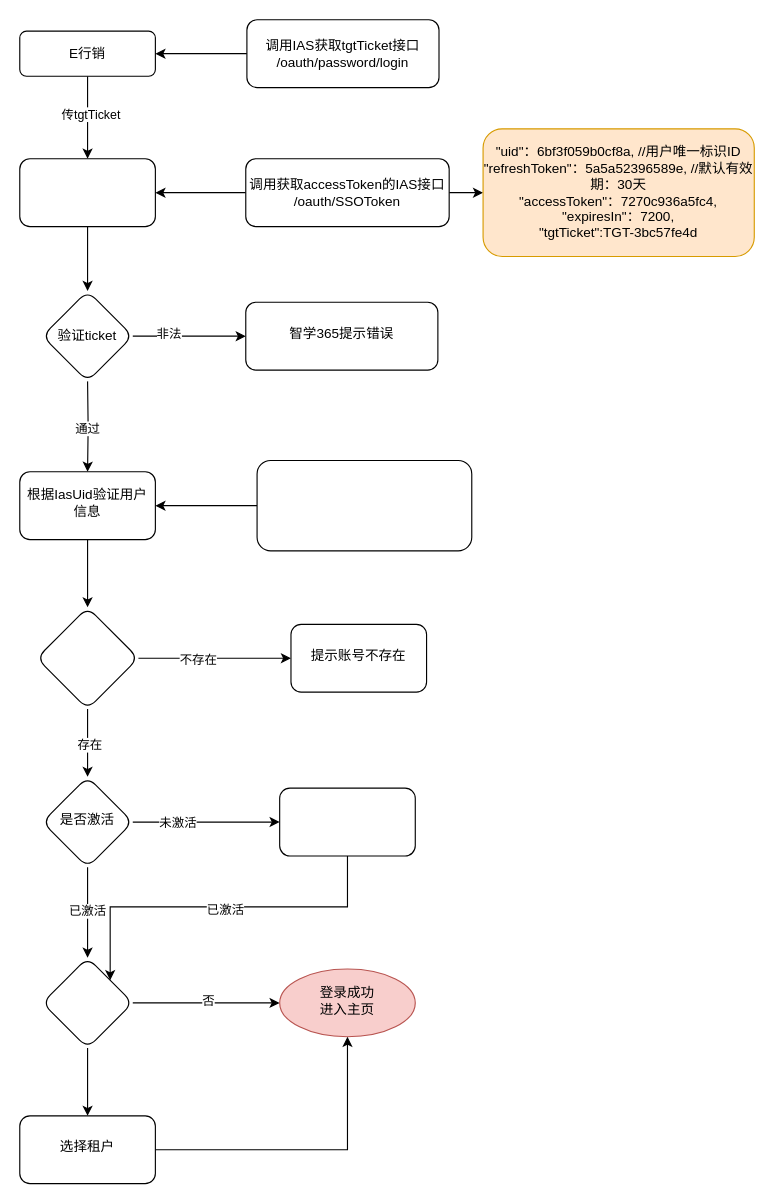
Image size: 774x1203. Some labels were removed from this diagram. The centre of each missing label's shape, as x and y in pixels:
"后台自动激活" goes at point (347, 821).
"是否在365存在该手机号" goes at point (87, 657).
"是否多租户" goes at point (87, 1002).
"智学365" goes at point (87, 192).
"通过微信源调IAS查用户信息接口 /user/userInfo/{source}" goes at point (364, 505).
